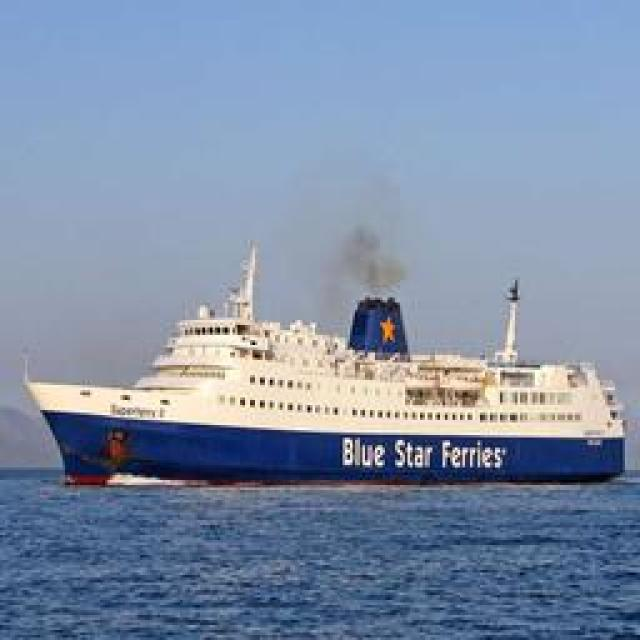CIV_Ship: (20, 238, 638, 488)
